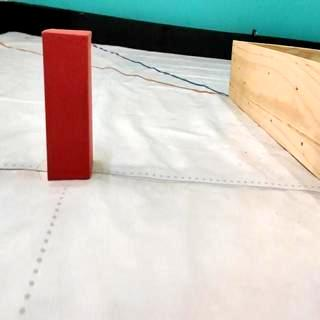redbox: (42, 29, 96, 182)
